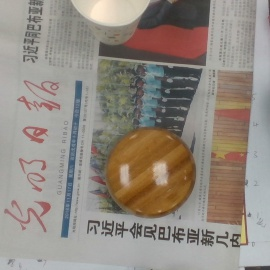chess: (102, 128, 198, 216)
cup: (70, 1, 150, 44)
